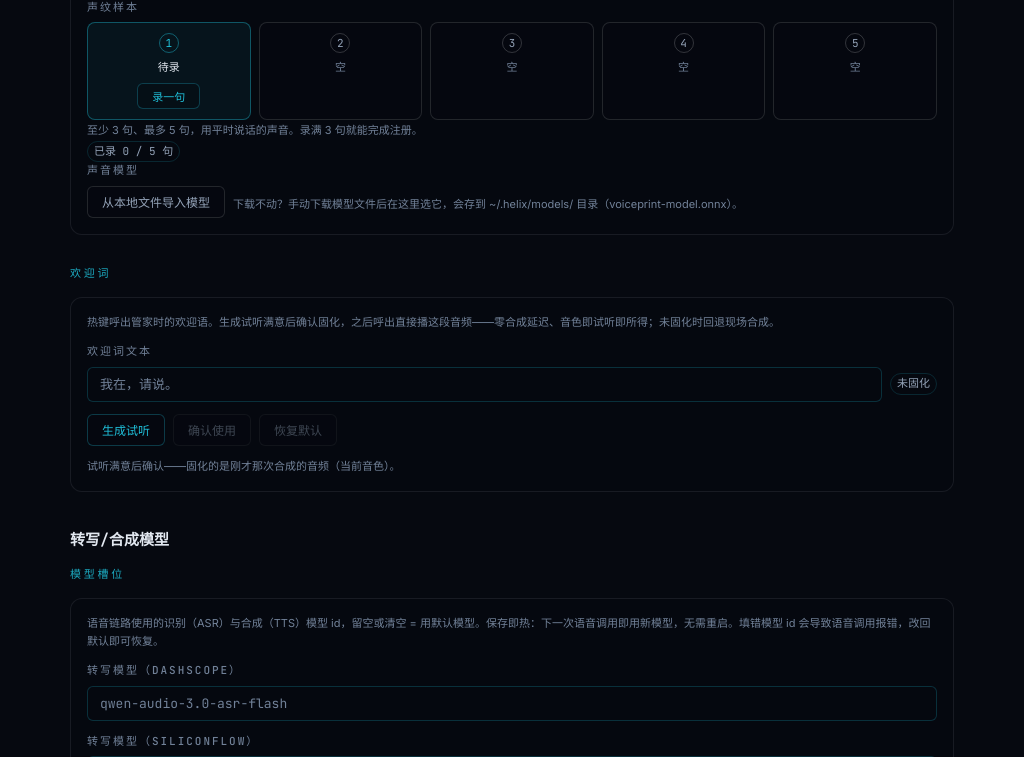
it: 欢迎词工坊（生成试听 → 确认固化 → 恢复默认） › 确认使用：音频+文本固化 localStorage + chip 已固化；read 契约回读一致
(page scrolled)
Type "主人好。" into the field with id "tts-welcome-text" at (484, 384), box [87,367,882,402]
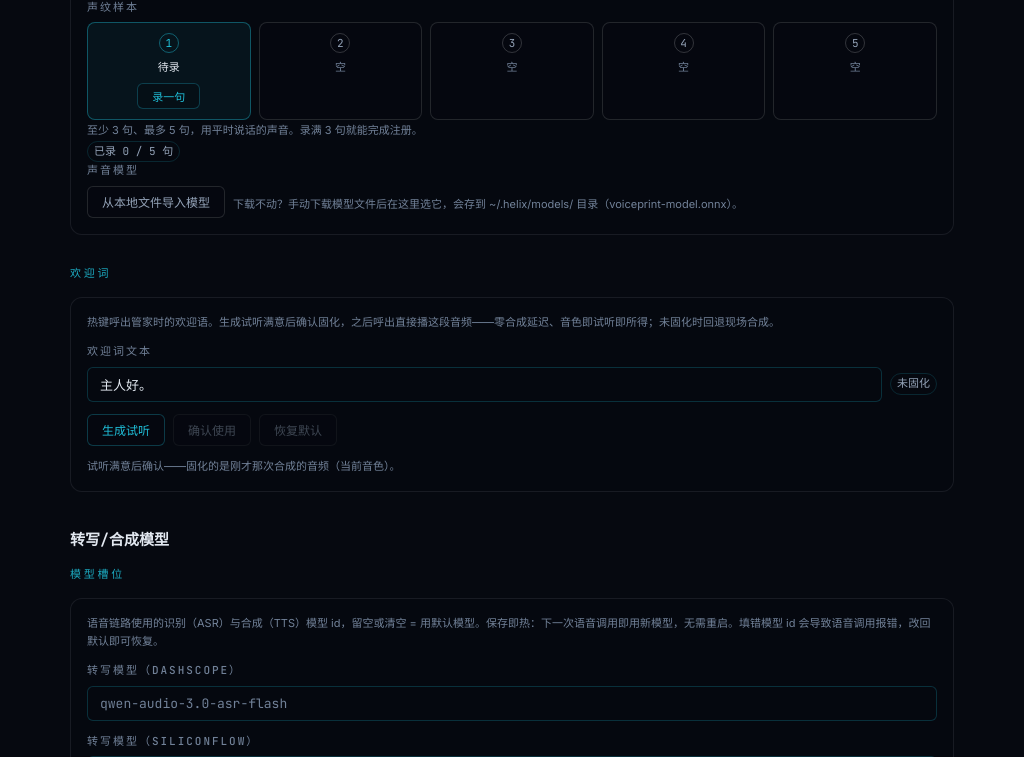
Click the button "生成试听" at (126, 430), box [87,414,165,446]
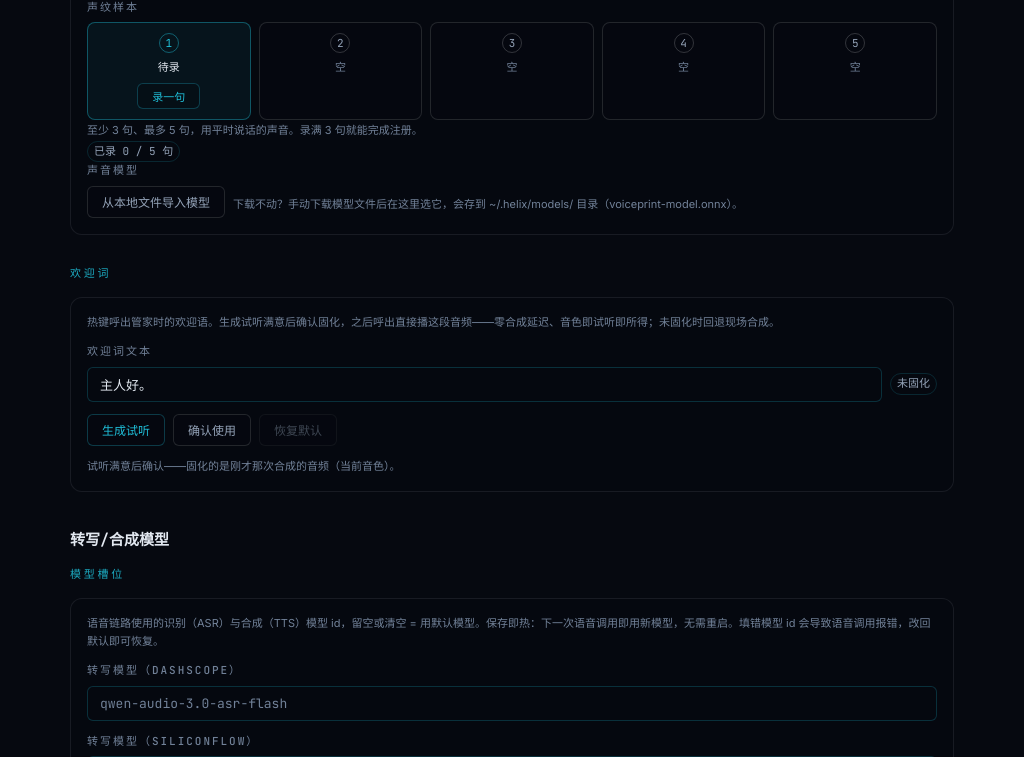
Expected: the button "确认使用" is enabled
Click the button "确认使用" at (212, 430), box [173,414,251,446]
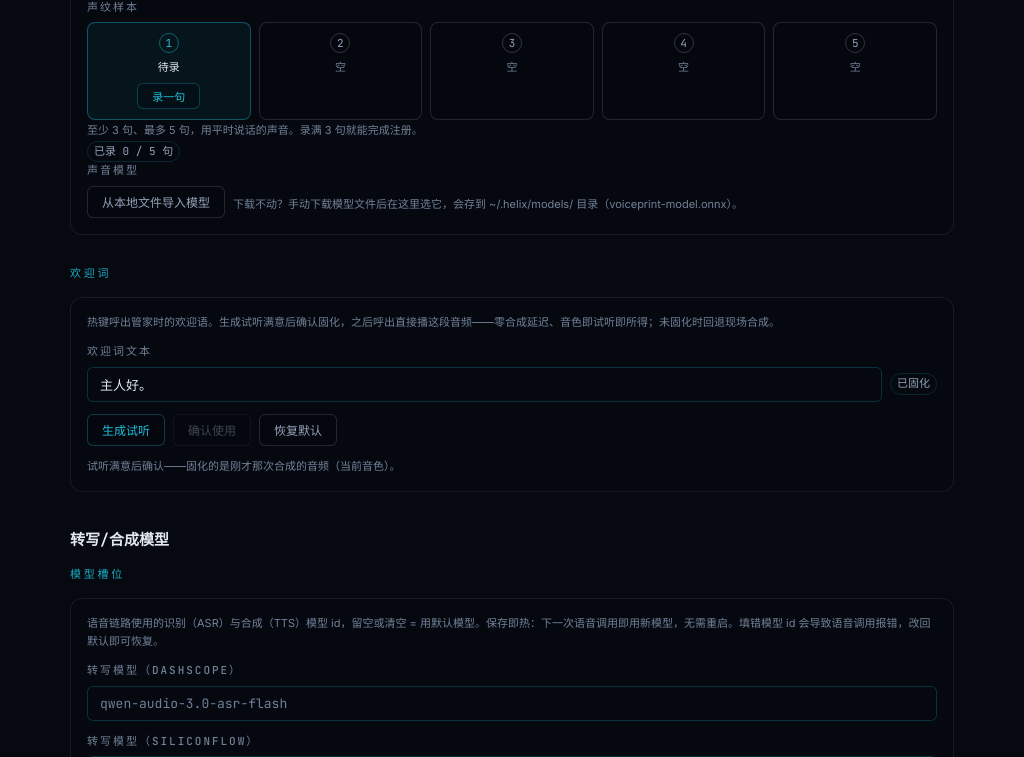
Expected: the button "恢复默认" is enabled, [259,414,337,446]
